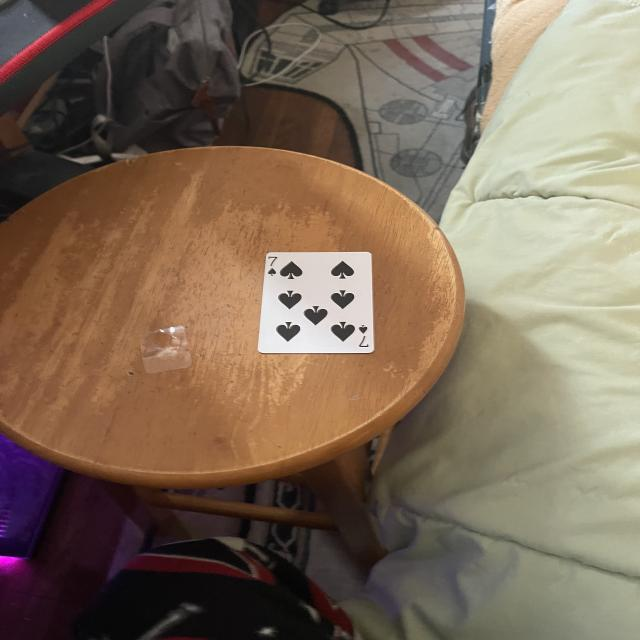7 of spades: (262, 250, 374, 353)
